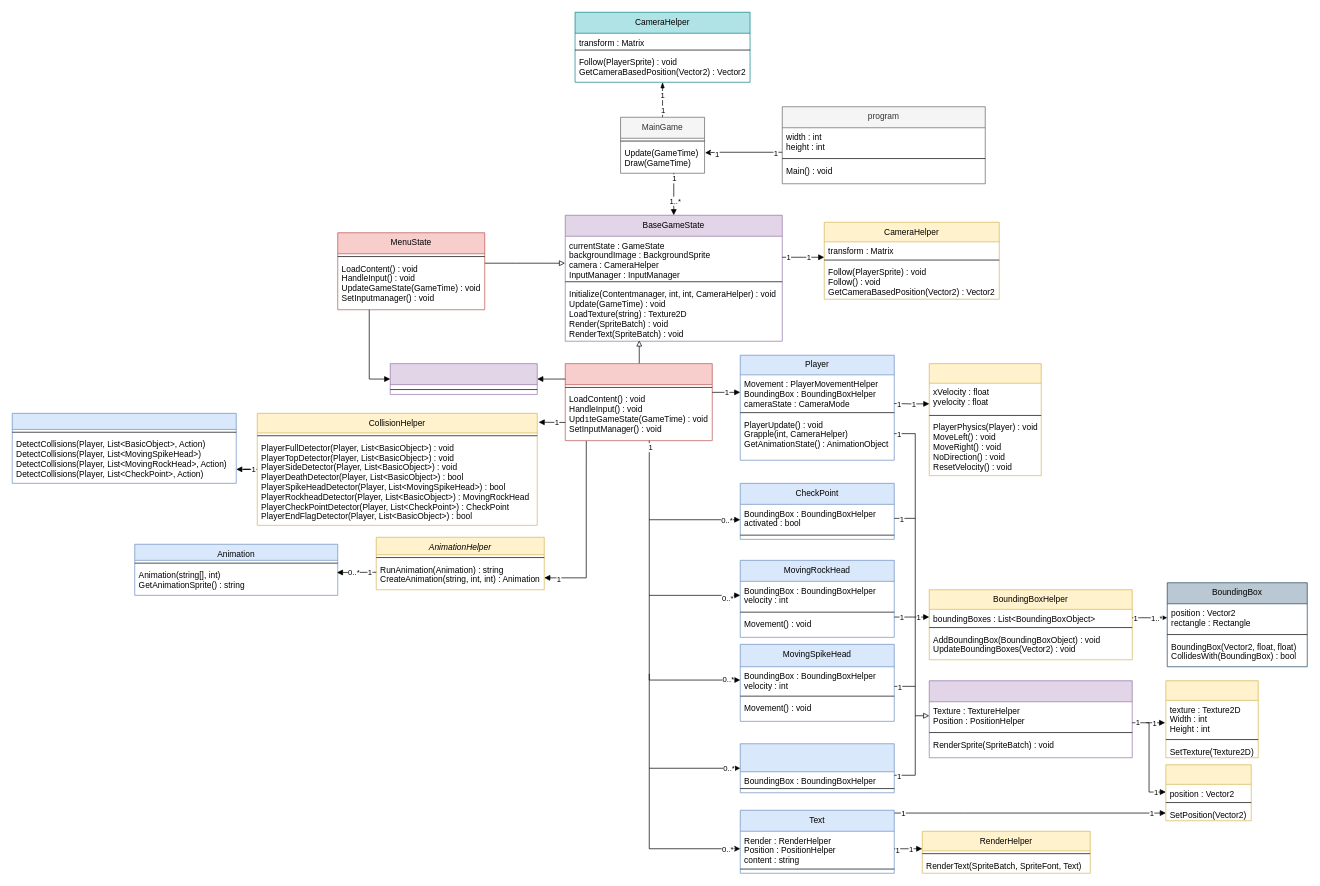
Image size: 1320x886. Some labels were removed from this diagram. Here are the shapes that lost their labels. From the top down, the box of each, then its label:
(390, 363, 537, 394): Input
(565, 363, 712, 441): GameplayState
(929, 363, 1041, 476): PlayerMovementHelper
(12, 413, 236, 483): CollisionDetector
(929, 680, 1132, 758): RenderAbleObject
(1165, 680, 1258, 758): TextureHelper
(740, 743, 894, 793): BasicObject
(1165, 764, 1251, 821): PositionHelper
